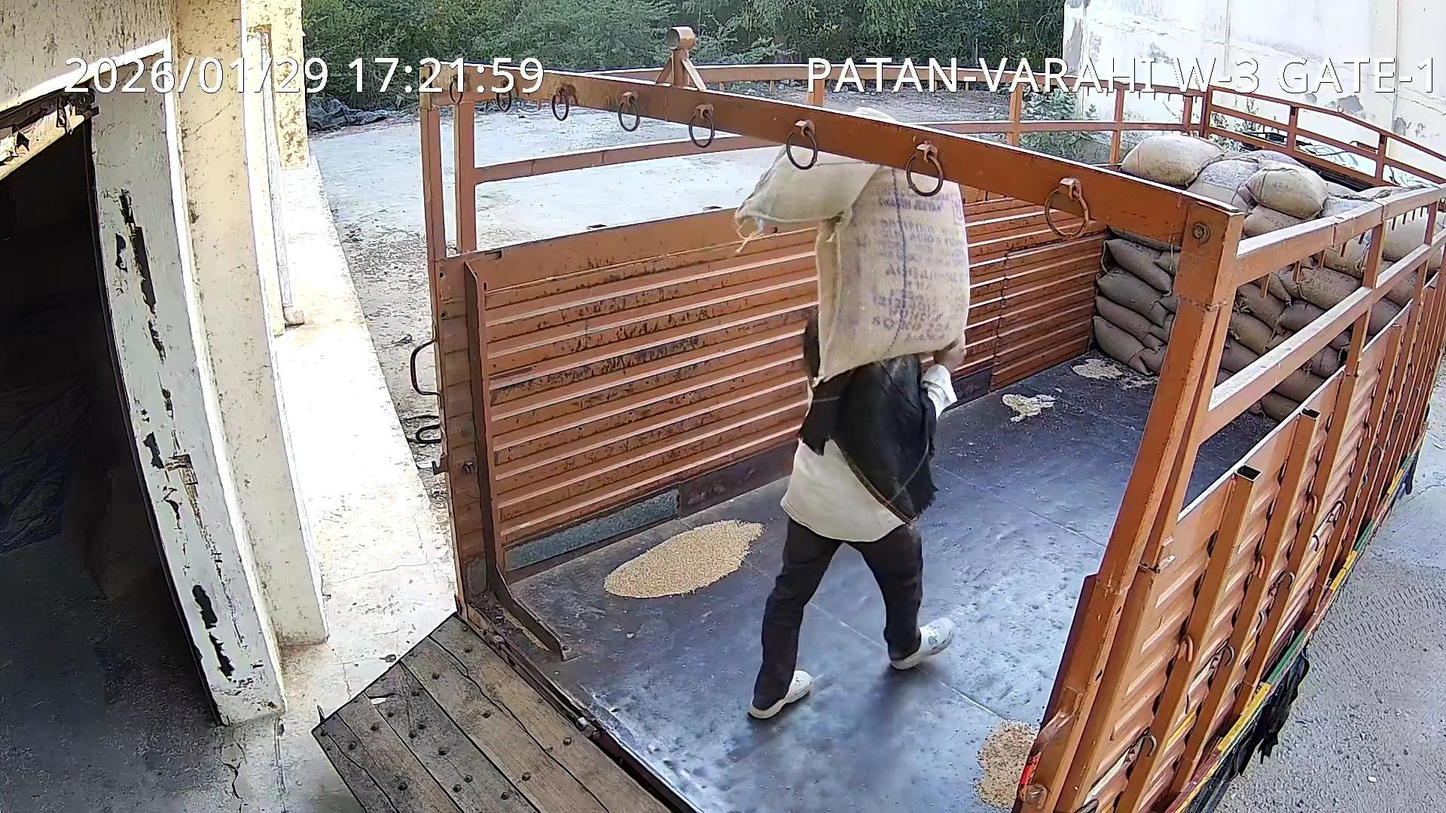Sack: (734, 148, 969, 377)
